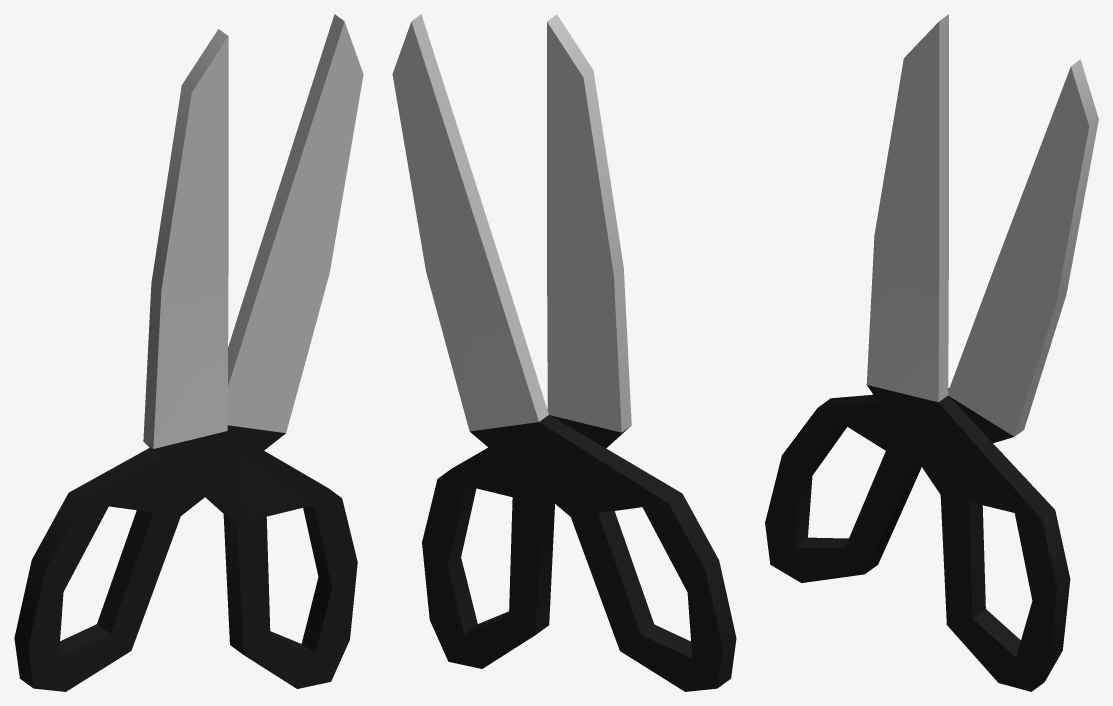
Rendered from Scissor.FBX.
The picture shows the model from 3 angles, left to right: view 1: azimuth 30°, elevation 25°; view 2: azimuth 150°, elevation 25°; view 3: azimuth 330°, elevation 25°; orthographic projection. The views are drawn at different scales.
Parts seen in each view (by area): view 1: Scissor; view 2: Scissor; view 3: Scissor.
Part boxes in pixels (bbox=[...]): Scissor: bbox=[14, 14, 363, 691]; Scissor: bbox=[392, 14, 736, 691]; Scissor: bbox=[765, 14, 1098, 691].
Size of the model in its own units: 6.47 by 12.29 by 0.9187.
